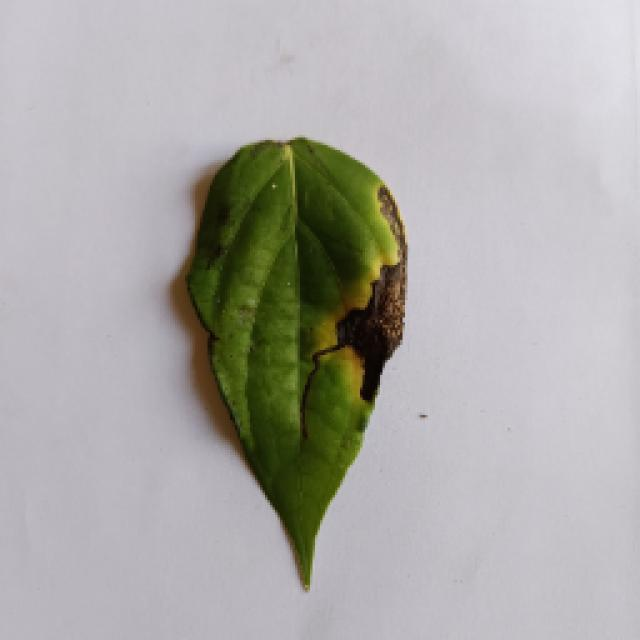footrot: (172, 130, 412, 592)
